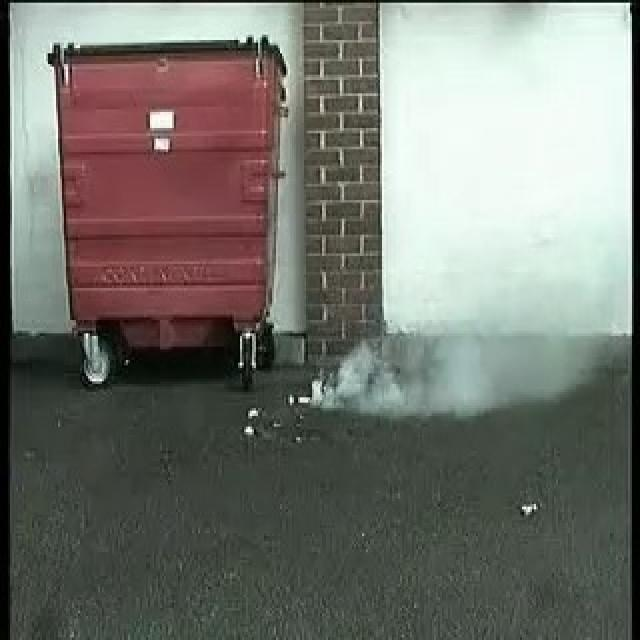smoke: (314, 327, 532, 411)
